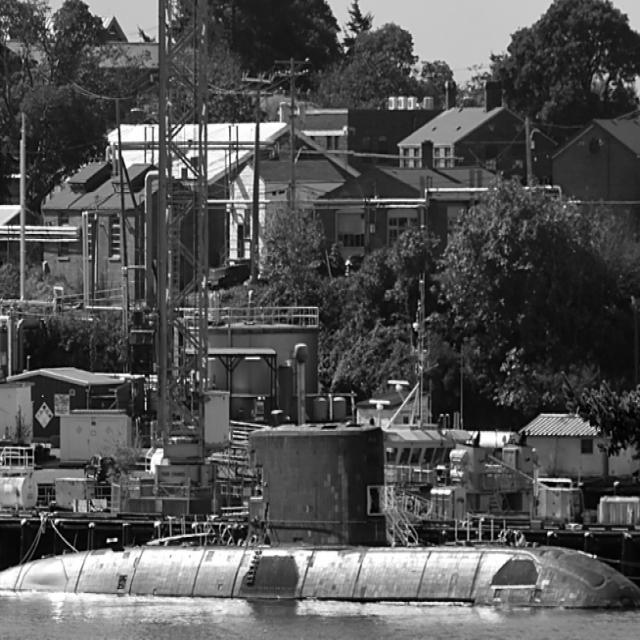submarine: (1, 422, 640, 611)
